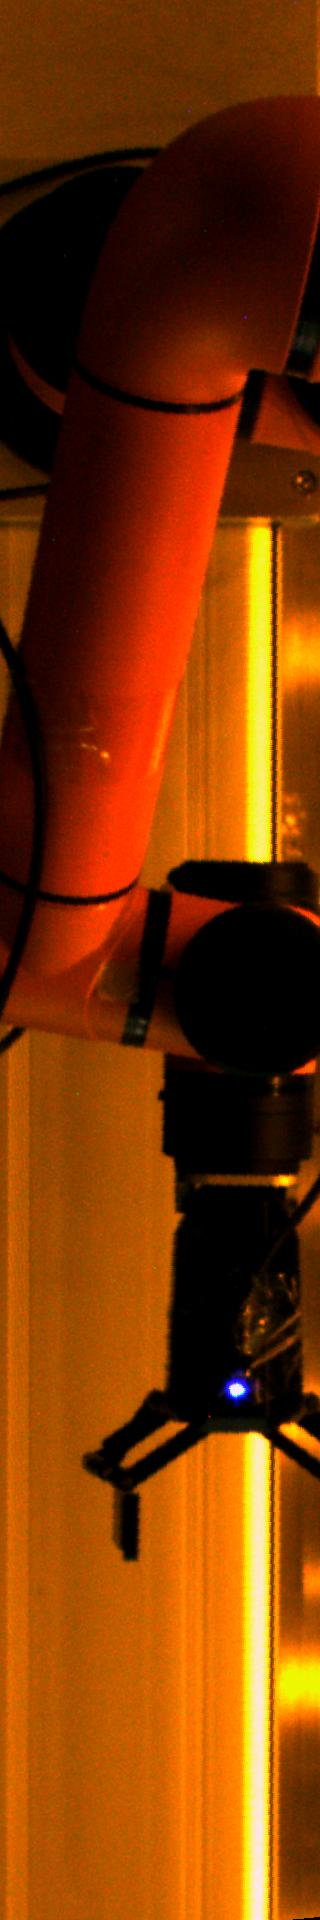keyPoint_1: (221, 1371, 251, 1401)
